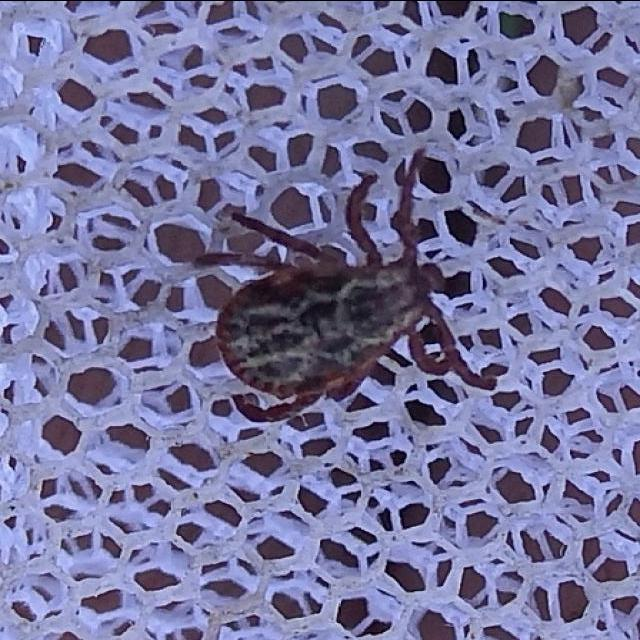Dermacentor Reticulatus-M: (194, 146, 510, 420)
